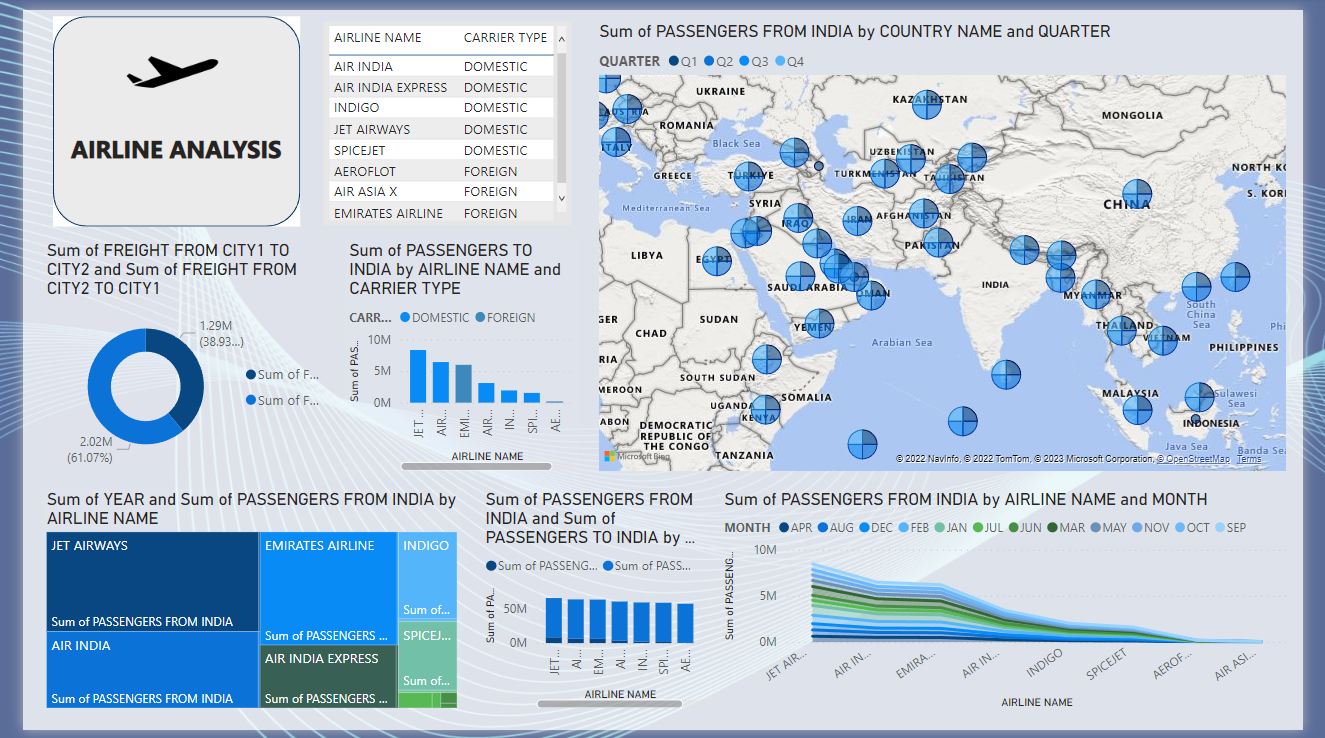

The page's visual inventory and layout, read from the dashboard file:
{"tool":"powerbi","page":{"name":"Page 1","canvas":[1280,720],"ordinal":0},"visuals":[{"type":"shape","box":[30,5.7,247.1,210],"z":0},{"type":"textbox","box":[0,117.1,300,60],"z":6000},{"type":"image","box":[94.3,5.7,111.4,111.4],"z":7000},{"type":"columnChart","fields":{"Category":["Airlinewise Monthly International Air Traffic To And From The Indian Territory.AIRLINE NAME"],"Y":["Sum(Airlinewise Monthly International Air Traffic To And From The Indian Territory.PASSENGERS FROM INDIA)","Sum(Countrywise Quarterly International Air Traffic To And From The Indian Territory.PASSENGERS TO INDIA)"]},"box":[457.1,478.6,228.6,224.3],"z":8000},{"type":"columnChart","fields":{"Category":["Airlinewise Monthly International Air Traffic To And From The Indian Territory.AIRLINE NAME"],"Y":["Sum(Airlinewise Monthly International Air Traffic To And From The Indian Territory.PASSENGERS TO INDIA)"],"Series":["Airlinewise Monthly International Air Traffic To And From The Indian Territory.CARRIER TYPE"]},"box":[321.4,230,234.3,235.7],"z":9000},{"type":"tableEx","fields":{"Values":["Airlinewise Monthly International Air Traffic To And From The Indian Territory.AIRLINE NAME","Airlinewise Monthly International Air Traffic To And From The Indian Territory.CARRIER TYPE"]},"box":[300,11.4,248.6,204.3],"z":10000},{"type":"donutChart","fields":{"Y":["Sum(Citypairwise Quarterly International  Air Traffic To And From The Indian Territo.FREIGHT FROM CITY1 TO CITY2)","Sum(Citypairwise Quarterly International  Air Traffic To And From The Indian Territo.FREIGHT FROM CITY2 TO CITY1)"]},"box":[18.6,230,292.9,235.7],"z":11000},{"type":"treemap","fields":{"Group":["Airlinewise Monthly International Air Traffic To And From The Indian Territory.AIRLINE NAME"],"Values":["Sum(Airlinewise Monthly International Air Traffic To And From The Indian Territory.YEAR)","Sum(Airlinewise Monthly International Air Traffic To And From The Indian Territory.PASSENGERS FROM INDIA)"]},"box":[18.6,478.6,420,224.3],"z":12000},{"type":"map","fields":{"Category":["Countrywise Quarterly International Air Traffic To And From The Indian Territory.COUNTRY NAME"],"Series":["Countrywise Quarterly International Air Traffic To And From The Indian Territory.QUARTER"],"Size":["Sum(Airlinewise Monthly International Air Traffic To And From The Indian Territory.PASSENGERS FROM INDIA)"]},"box":[571.4,11.4,697.1,454.3],"z":13000},{"type":"stackedAreaChart","fields":{"Category":["Airlinewise Monthly International Air Traffic To And From The Indian Territory.AIRLINE NAME"],"Series":["Airlinewise Monthly International Air Traffic To And From The Indian Territory.MONTH"],"Y":["Sum(Airlinewise Monthly International Air Traffic To And From The Indian Territory.PASSENGERS FROM INDIA)"]},"box":[695.7,478.6,572.9,224.3],"z":14000}]}

Visuals, with their boxes in screenshot pixels (x1, y1, x2, y2), scaled from the page's 1280x720 canvas onto the 1325x738 screenshot:
shape: (31, 6, 287, 221)
textbox: (0, 120, 311, 182)
image: (98, 6, 213, 120)
columnChart - Airlinewise Monthly International Air Traffic To And From The Indian Territory.AIRLINE NAME x Sum(Airlinewise Monthly International Air Traffic To And From The Indian Territory.PASSENGERS FROM INDIA): (473, 491, 710, 720)
columnChart - Airlinewise Monthly International Air Traffic To And From The Indian Territory.AIRLINE NAME x Sum(Airlinewise Monthly International Air Traffic To And From The Indian Territory.PASSENGERS TO INDIA): (333, 236, 575, 477)
tableEx - Airlinewise Monthly International Air Traffic To And From The Indian Territory.AIRLINE NAME x Airlinewise Monthly International Air Traffic To And From The Indian Territory.CARRIER TYPE: (311, 12, 568, 221)
donutChart - Sum(Citypairwise Quarterly International  Air Traffic To And From The Indian Territo.FREIGHT FROM CITY1 TO CITY2) x Sum(Citypairwise Quarterly International  Air Traffic To And From The Indian Territo.FREIGHT FROM CITY2 TO CITY1): (19, 236, 322, 477)
treemap - Airlinewise Monthly International Air Traffic To And From The Indian Territory.AIRLINE NAME x Sum(Airlinewise Monthly International Air Traffic To And From The Indian Territory.YEAR): (19, 491, 454, 720)
map - Countrywise Quarterly International Air Traffic To And From The Indian Territory.COUNTRY NAME x Countrywise Quarterly International Air Traffic To And From The Indian Territory.QUARTER: (591, 12, 1313, 477)
stackedAreaChart - Airlinewise Monthly International Air Traffic To And From The Indian Territory.AIRLINE NAME x Airlinewise Monthly International Air Traffic To And From The Indian Territory.MONTH: (720, 491, 1313, 720)
